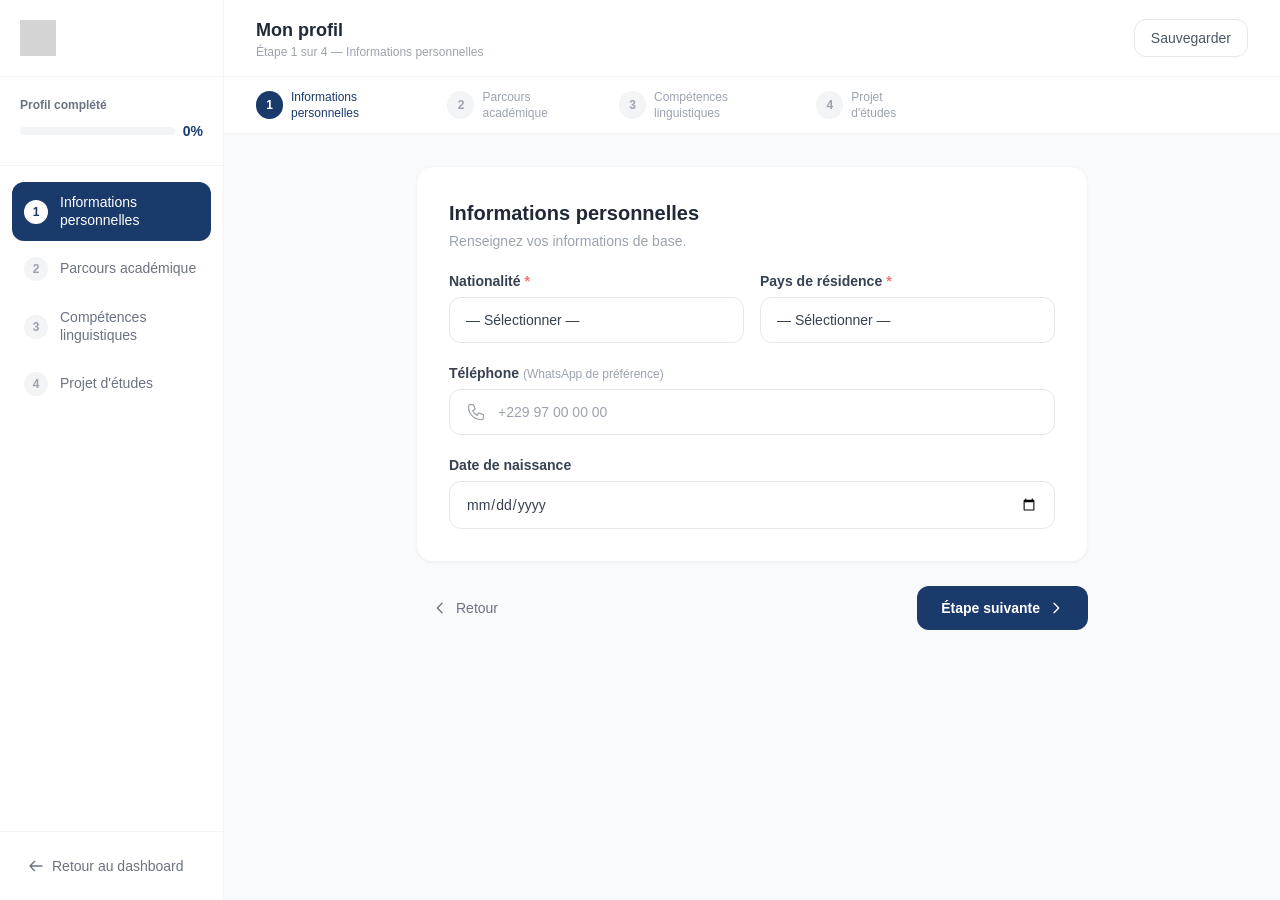
Test case: Profile — auto-remplissage de l'indicatif téléphonique › remplit le champ téléphone avec +229 lors du choix de Bénin
Select "Bénin" in the dropdown below "Nationalité" at (596,320), box x1=449 y1=297 x2=744 y2=343
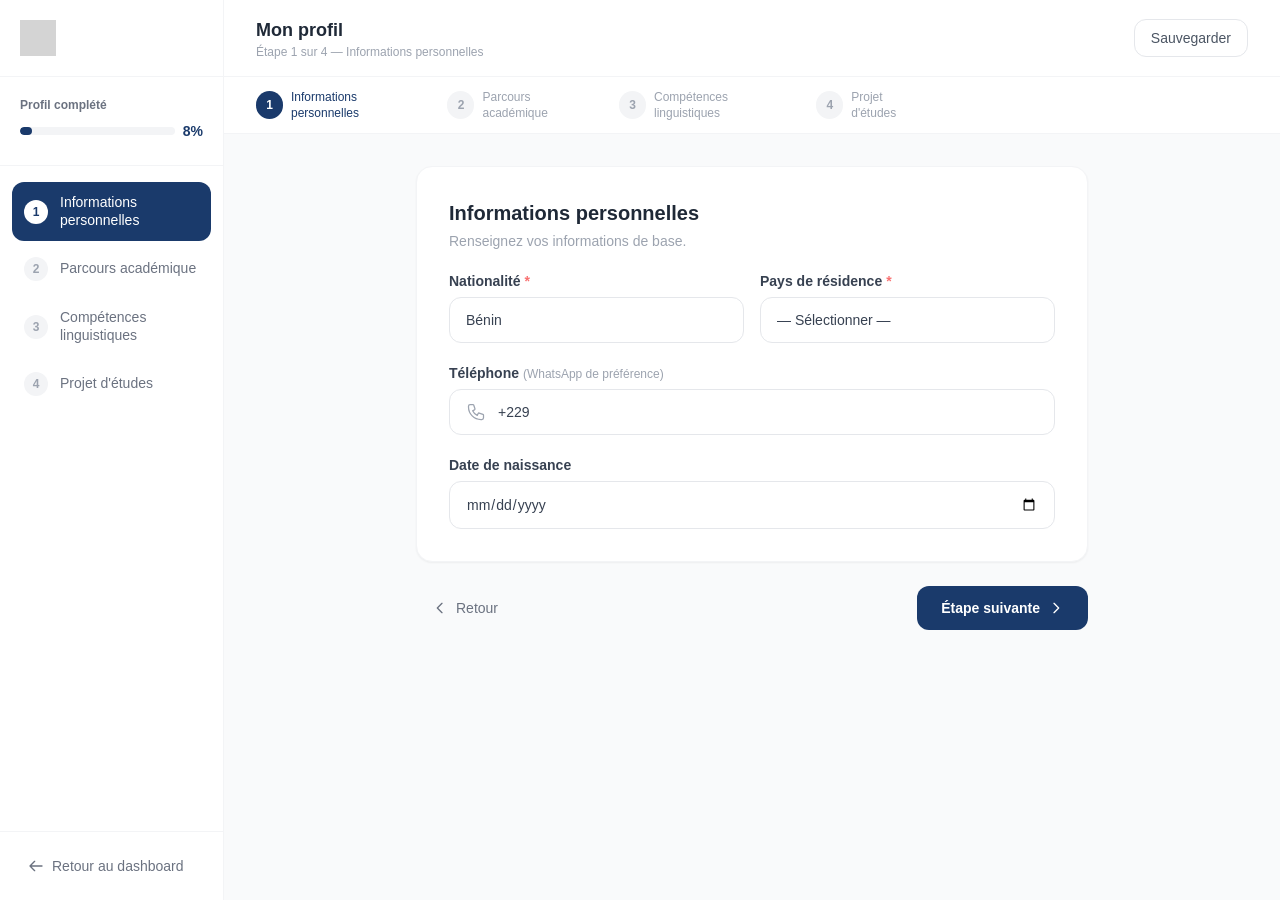
Expected: the field with placeholder "+229 97 00 00 00" holds "+229 ", x1=498 y1=402 x2=1038 y2=422
